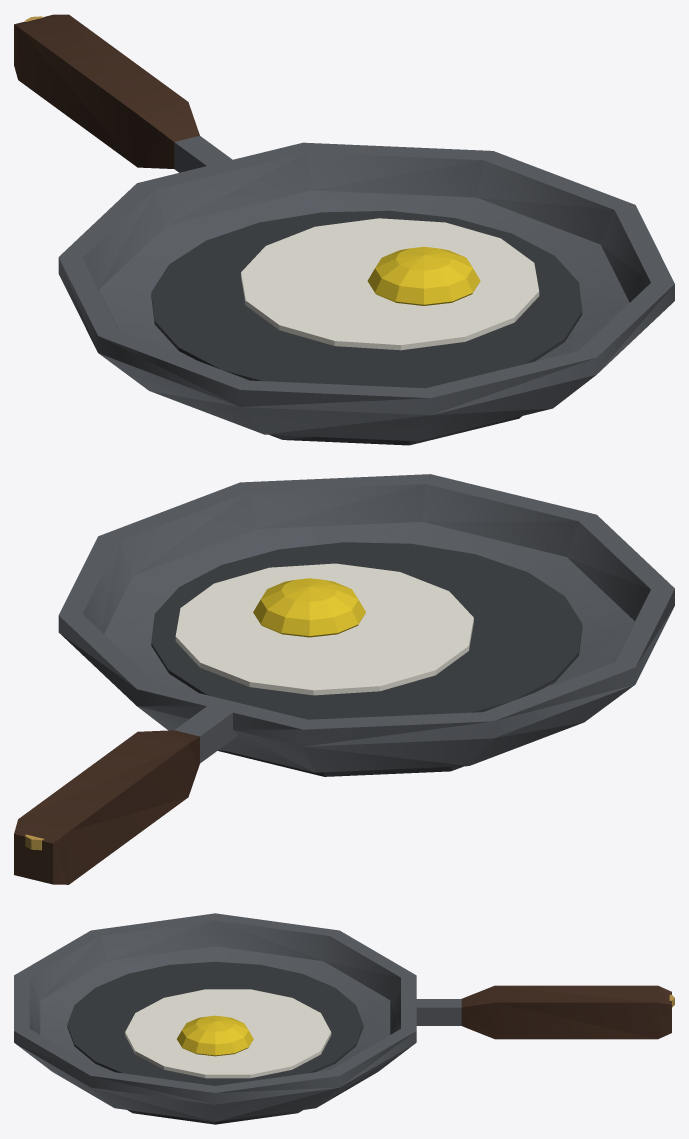
File: frying-pan.glb
The picture shows the model from 3 angles, top to bottom: view 1: azimuth 30°, elevation 25°; view 2: azimuth 150°, elevation 25°; view 3: azimuth 270°, elevation 25°; orthographic projection. The views are drawn at different scales.
Parts seen in each view (by area): view 1: frying-pan; view 2: frying-pan; view 3: frying-pan.
Boxes of the visible parts, <box> form: frying-pan: <box>14,14,674,445</box>; frying-pan: <box>14,474,674,884</box>; frying-pan: <box>14,913,674,1124</box>.
Size of the model in its own units: 0.6574 by 0.1206 by 1.02.
